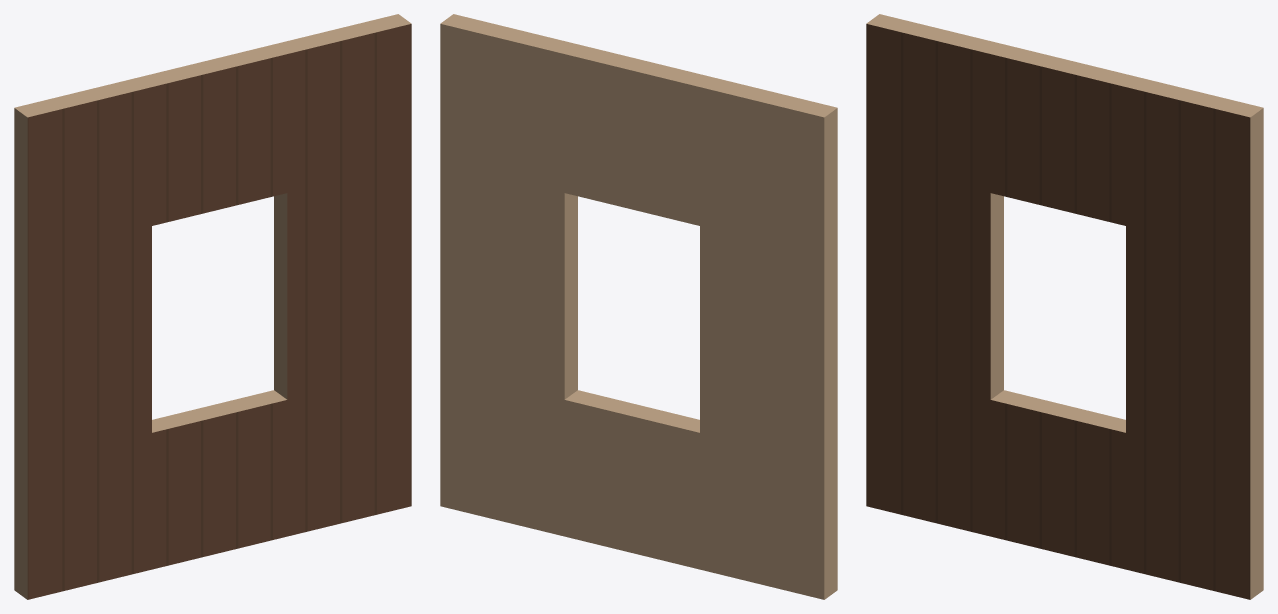
Rendered from Wall3_C9_03.fbx.
The picture shows the model from 3 angles, left to right: view 1: azimuth 30°, elevation 25°; view 2: azimuth 150°, elevation 25°; view 3: azimuth 330°, elevation 25°; orthographic projection.
Parts seen in each view (by area): view 1: Wall3_C9_03; view 2: Wall3_C9_03; view 3: Wall3_C9_03.
Boxes of the visible parts, box(x1,y1,x2,y2) form: Wall3_C9_03: box(14, 14, 411, 599); Wall3_C9_03: box(440, 14, 837, 599); Wall3_C9_03: box(866, 14, 1263, 599).
Bounding box in the file's own units: 250 × 300 × 15.
